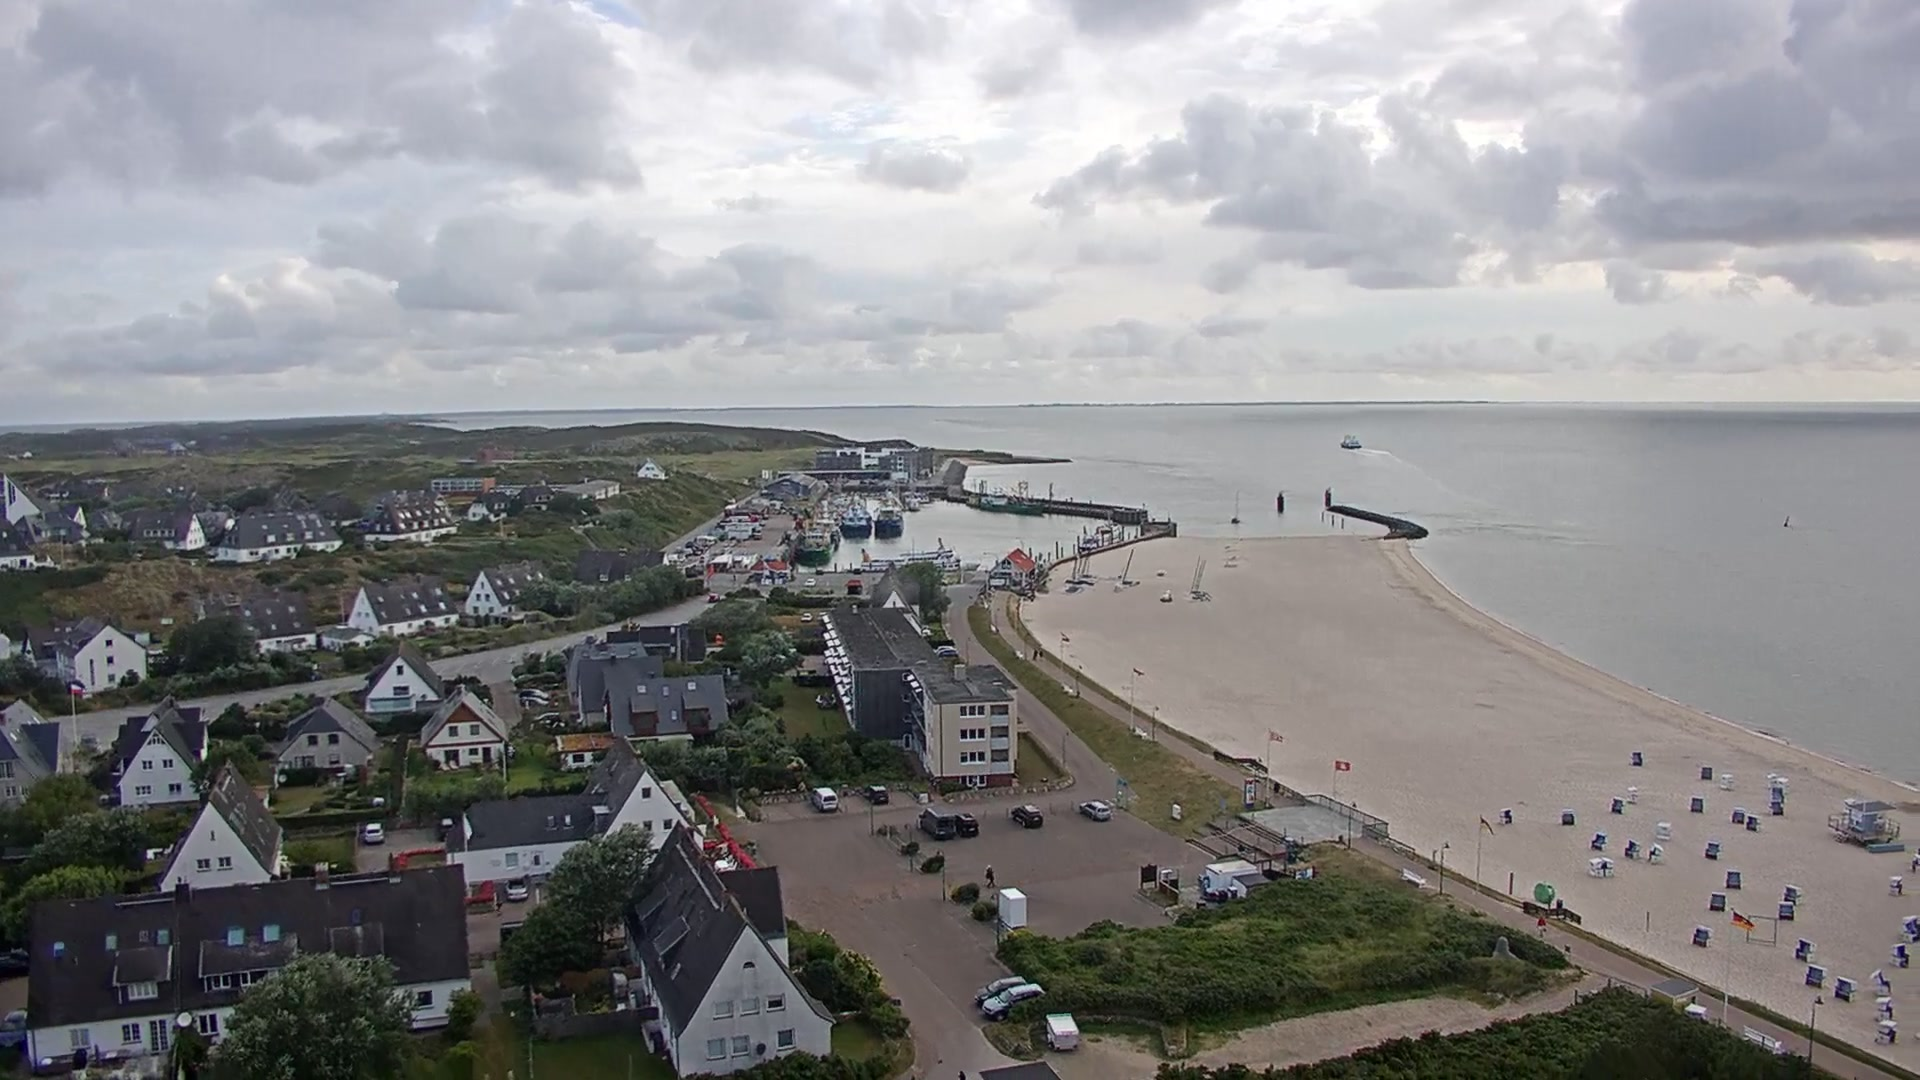human: (985, 863, 996, 888), (1537, 915, 1547, 936), (1032, 648, 1038, 660), (1039, 649, 1043, 659)
land: (981, 984, 1046, 1020), (974, 975, 1026, 1006), (1, 1005, 29, 1055), (917, 806, 955, 841), (1011, 805, 1044, 831), (810, 786, 838, 812), (1, 948, 32, 971), (1079, 800, 1110, 822), (505, 877, 528, 901), (363, 822, 385, 844), (437, 816, 456, 841), (862, 783, 888, 803), (961, 811, 979, 837), (534, 712, 561, 725), (519, 687, 548, 699), (521, 697, 549, 708), (938, 648, 958, 657), (932, 644, 954, 652), (799, 612, 811, 622), (706, 593, 718, 604), (804, 577, 816, 586), (853, 567, 861, 573), (815, 568, 823, 574)
sea: (858, 535, 979, 571), (979, 479, 1044, 515), (794, 528, 832, 566), (1077, 523, 1124, 552), (838, 503, 871, 537), (873, 506, 903, 537), (1340, 433, 1362, 449), (1230, 489, 1240, 524)
